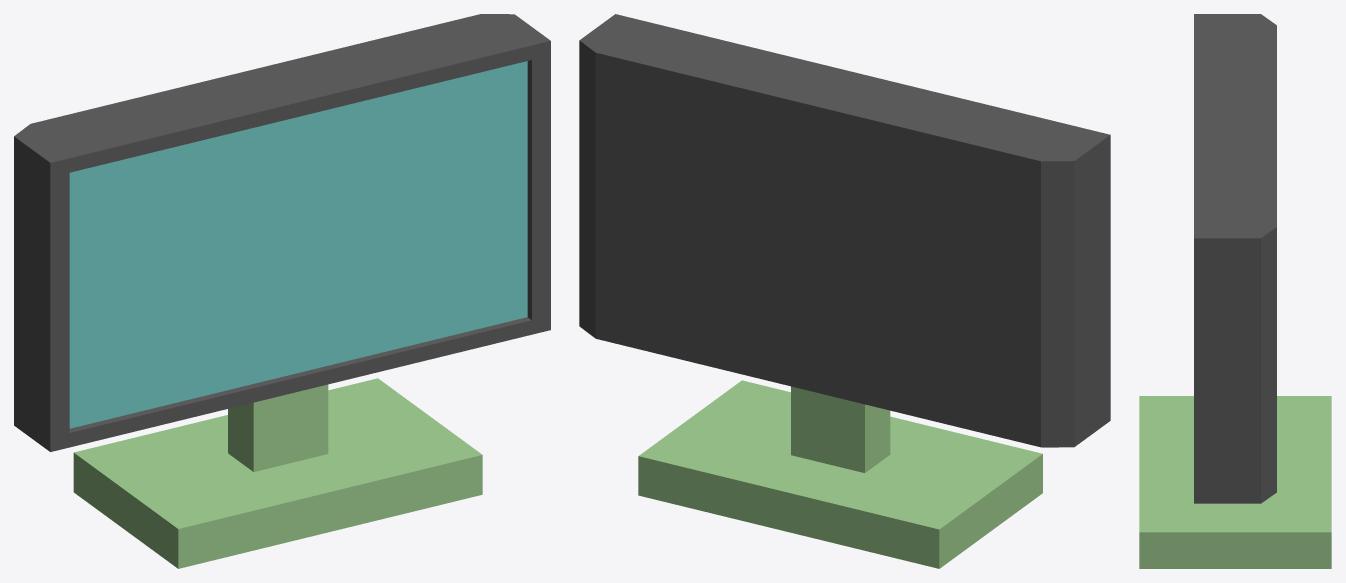
File: Monitor.fbx
3 views of the same model, side by side, from view 1: azimuth 30°, elevation 25°; view 2: azimuth 150°, elevation 25°; view 3: azimuth 270°, elevation 25° (orthographic). The views are drawn at different scales.
Visible parts, largest first — view 1: Monitor; view 2: Monitor; view 3: Monitor.
Boxes of the visible parts, left/top/right/bottom form: Monitor: left=14, top=14, right=550, bottom=568; Monitor: left=579, top=14, right=1110, bottom=568; Monitor: left=1139, top=14, right=1331, bottom=568.
Size of the model in its own units: 229 by 179 by 83.03.
